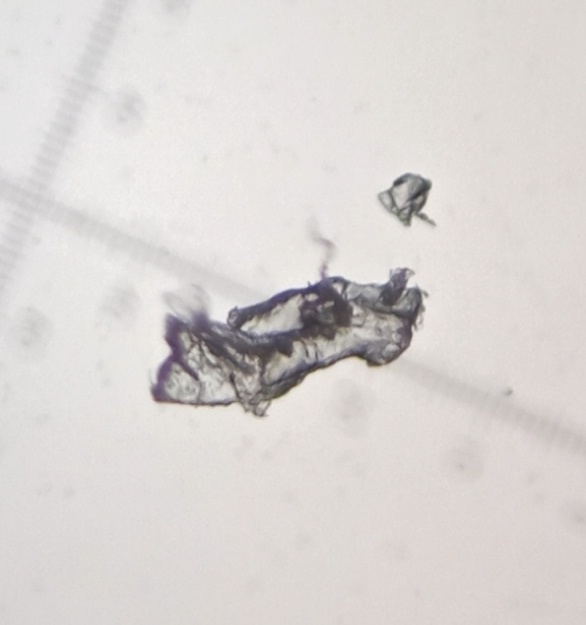microplastic: (150, 267, 437, 424), (376, 166, 438, 234)
